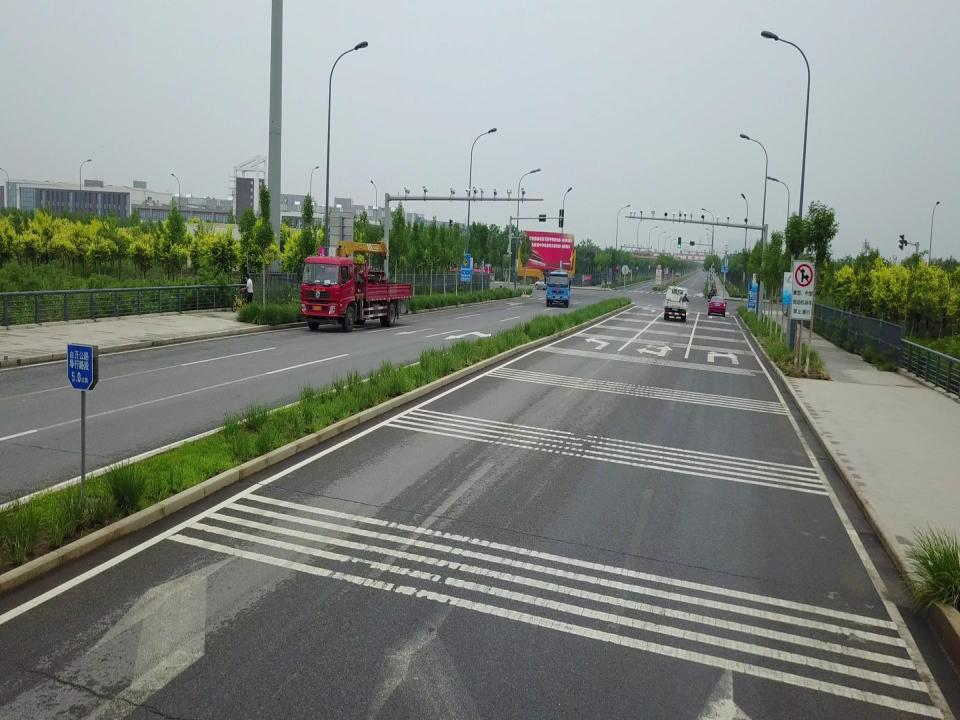car: (707, 295, 727, 317), (534, 276, 554, 291)
truck: (298, 255, 412, 334), (544, 269, 572, 308), (663, 284, 689, 323)
